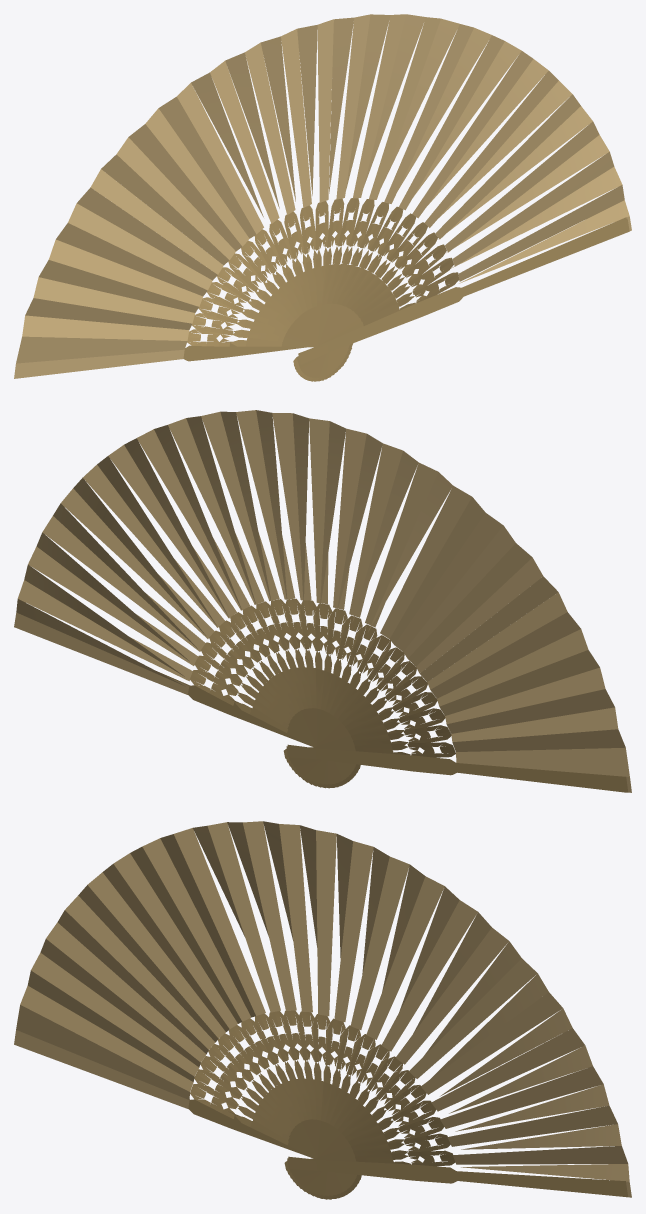
File: hand_fan.glb
3 views of the same model, one above another, from view 1: azimuth 30°, elevation 25°; view 2: azimuth 150°, elevation 25°; view 3: azimuth 330°, elevation 25° (orthographic). The views are drawn at different scales.
Visible parts, largest first — view 1: HandFan_HandFan_beige_a_0, HandFan_HandFan_beige_b_0; view 2: HandFan_HandFan_beige_a_0, HandFan_HandFan_beige_b_0; view 3: HandFan_HandFan_beige_a_0, HandFan_HandFan_beige_b_0.
Part boxes in pixels (x1,y1,x2,y2): HandFan_HandFan_beige_a_0: (14, 14, 631, 378); HandFan_HandFan_beige_b_0: (183, 198, 629, 381); HandFan_HandFan_beige_a_0: (14, 410, 631, 792); HandFan_HandFan_beige_b_0: (159, 598, 628, 792); HandFan_HandFan_beige_a_0: (14, 821, 631, 1197); HandFan_HandFan_beige_b_0: (188, 1010, 627, 1199).
Bounding box in the file's own units: 0.2569 × 0.1439 × 0.00984.
